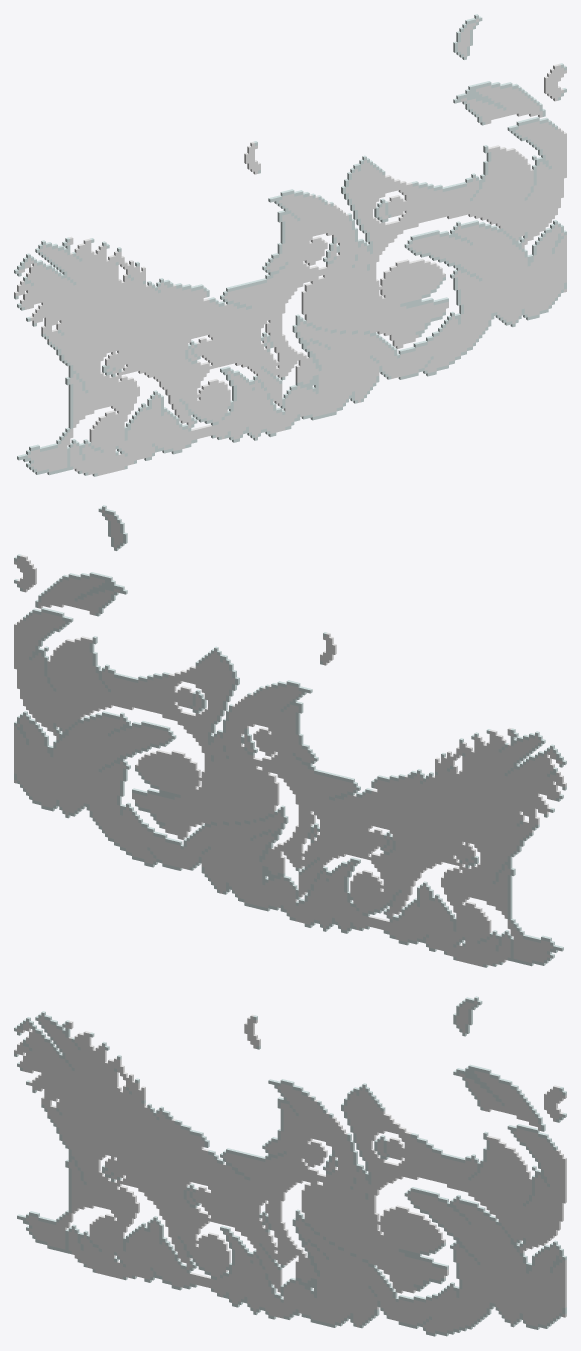
File: Fight_759_2_07_fx.obj
The picture shows the model from 3 angles, top to bottom: view 1: azimuth 30°, elevation 25°; view 2: azimuth 150°, elevation 25°; view 3: azimuth 330°, elevation 25°; orthographic projection.
Size of the model in its own units: 18.2 by 11.7 by 0.1.
1 material, 1 textured.
